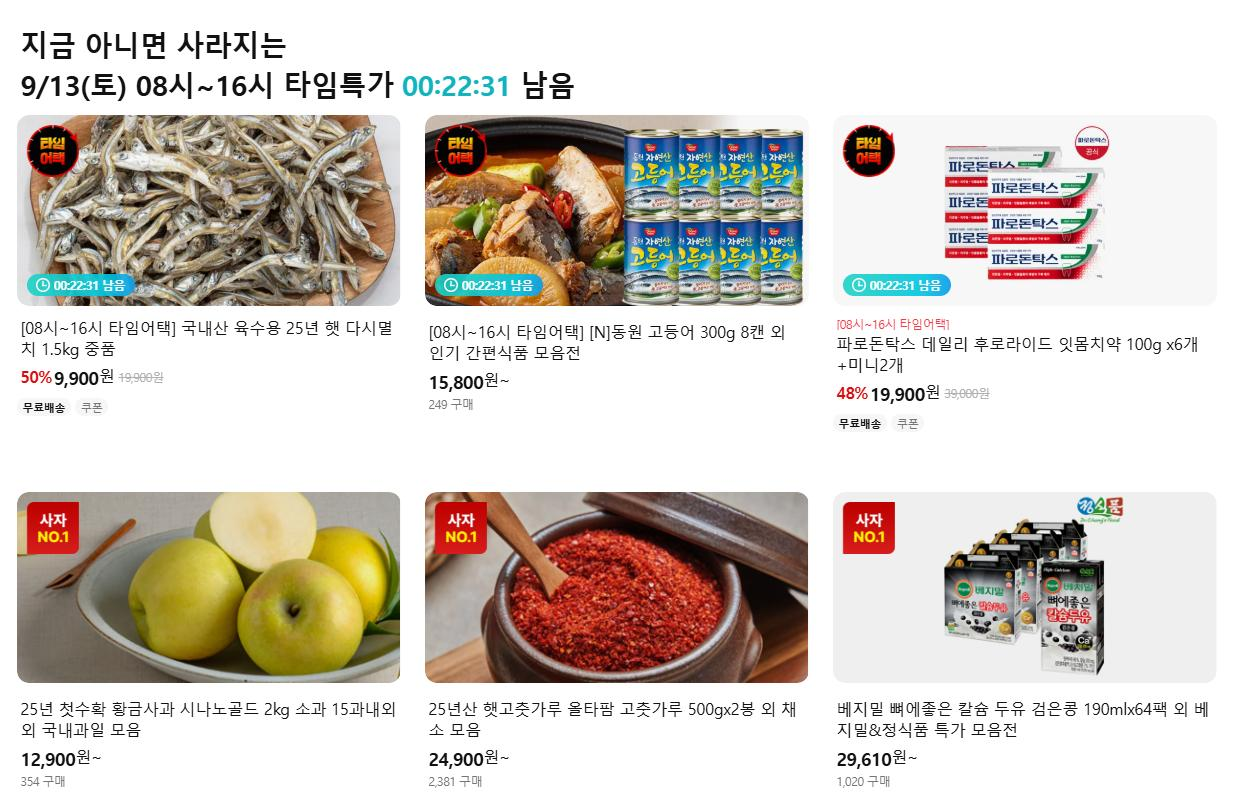button: (24, 272, 136, 294), (434, 274, 538, 296), (848, 279, 941, 297)
